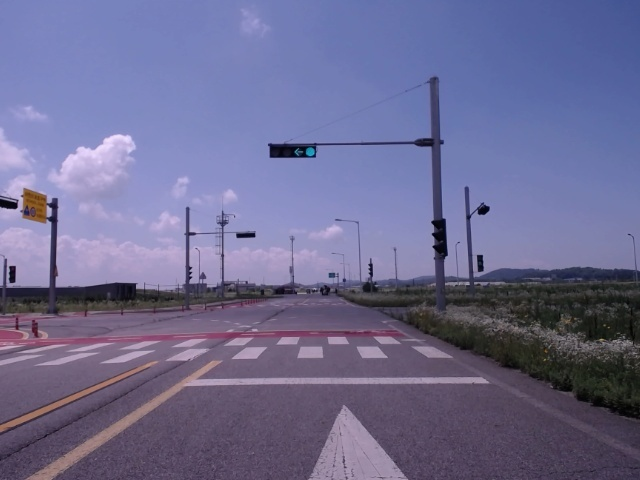all_green_4: (271, 140, 318, 155)
